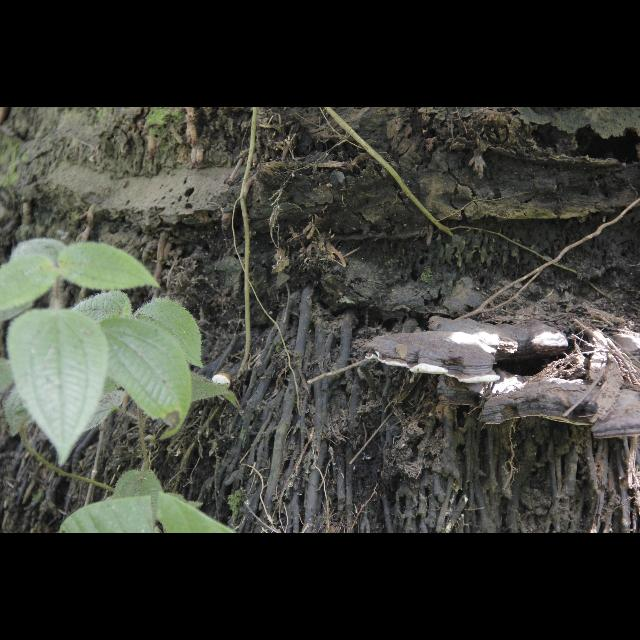ganoderma: (438, 367, 640, 441), (365, 316, 570, 386)
primordium: (212, 373, 234, 391)
